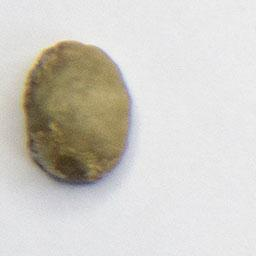defect: (20, 37, 135, 186)
